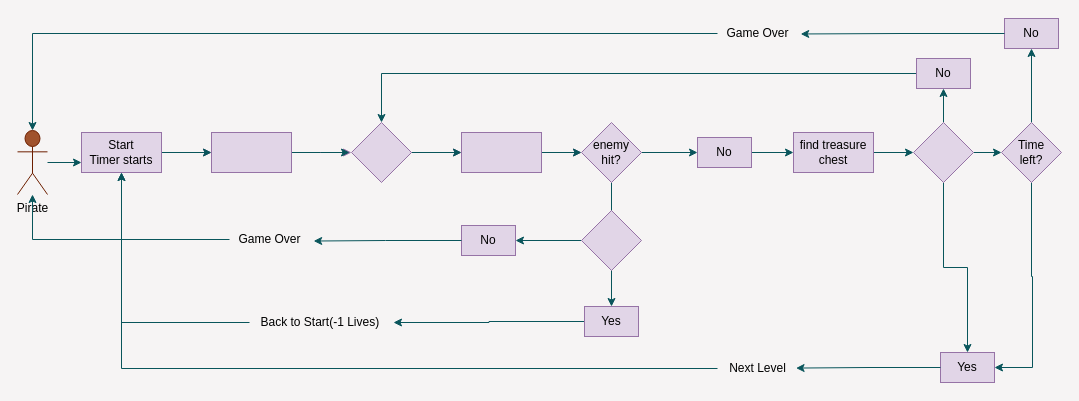
The diagram is 1079 pixels wide and 401 high, and some of its shapes have lost their labels. Each missing label, with the centre of its shape:
dodge enemy/trap: the point at 501,152
find key: the point at 381,152
key?: the point at 943,152
lives left?: the point at 611,240
navigate through maze: the point at 251,152
